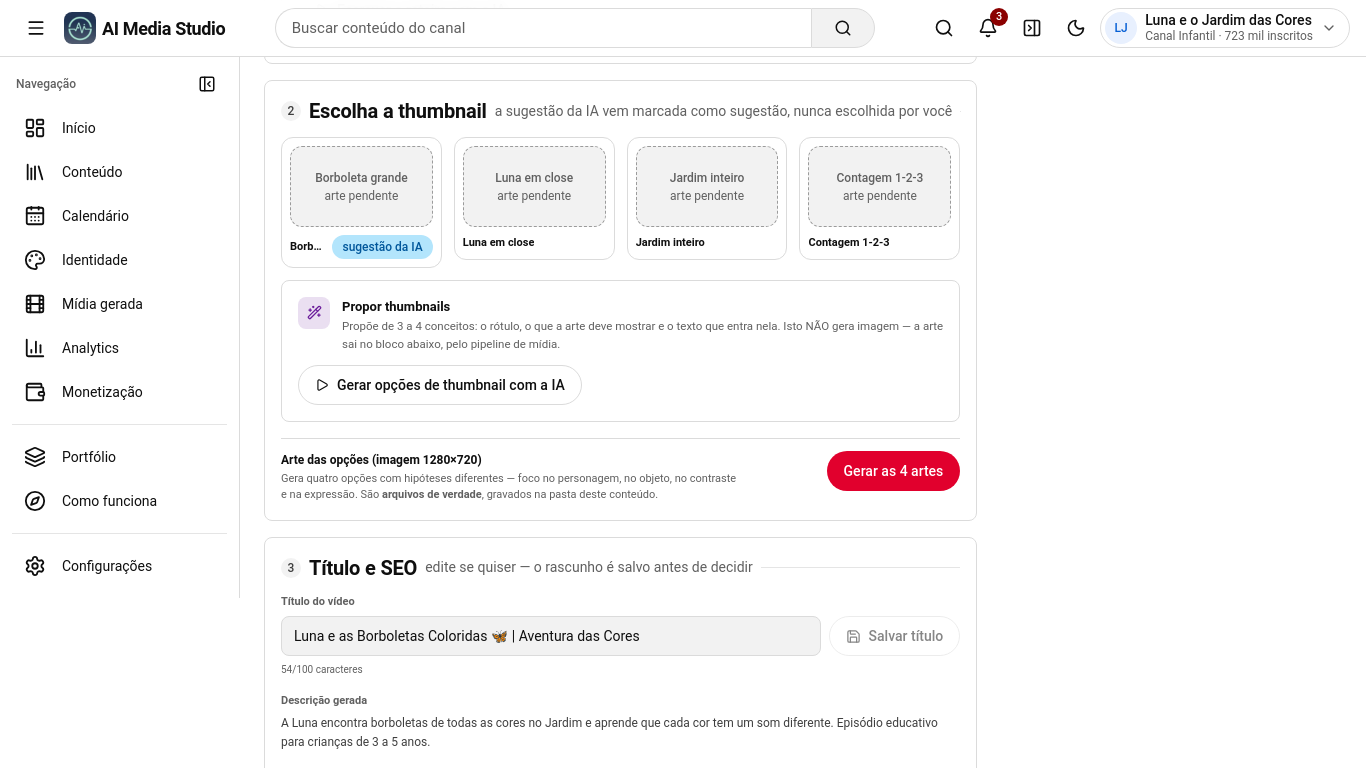
Test: tela de revisão › dá para PEDIR opções de thumbnail à IA e aplicar as propostas
(page scrolled)
Click the button "Gerar opções de thumbnail com a IA" at x=440, y=385, box [298,365,582,405]
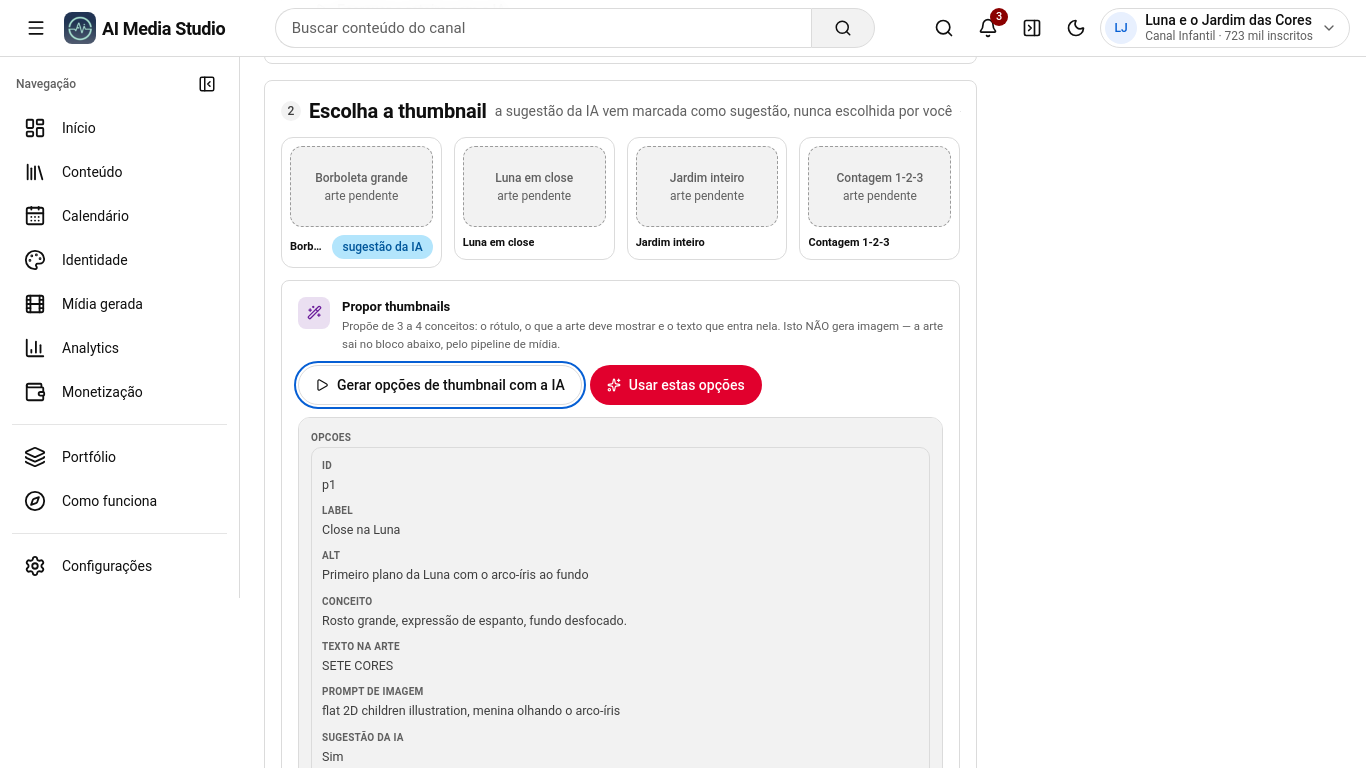
Click the button "Usar estas opções" at x=676, y=385, box [590,365,762,405]
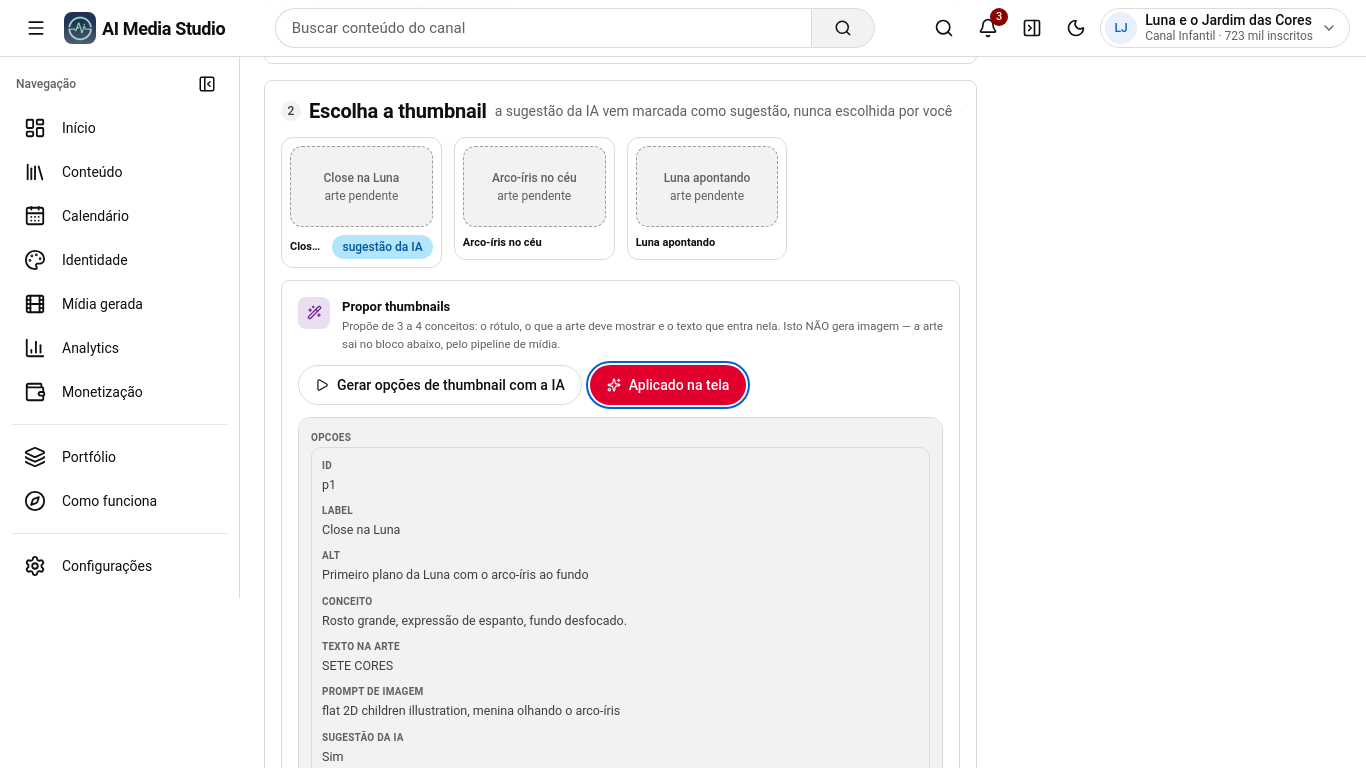
Check: the number of radio buttons is 3, box [281,137,442,268]; [454,137,615,260]; [627,137,788,260]
Check: the text "Close na Luna" is shown, box [324,171,399,185]
